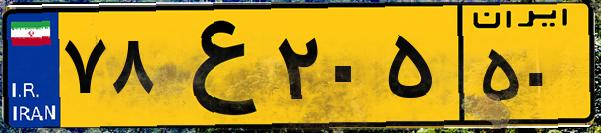0: (330, 28, 385, 110), (525, 38, 570, 115)
2: (270, 28, 330, 110)
5: (385, 28, 445, 110), (475, 38, 525, 113)
7: (57, 26, 110, 100)
8: (110, 28, 158, 98)
ع: (158, 12, 270, 120)
